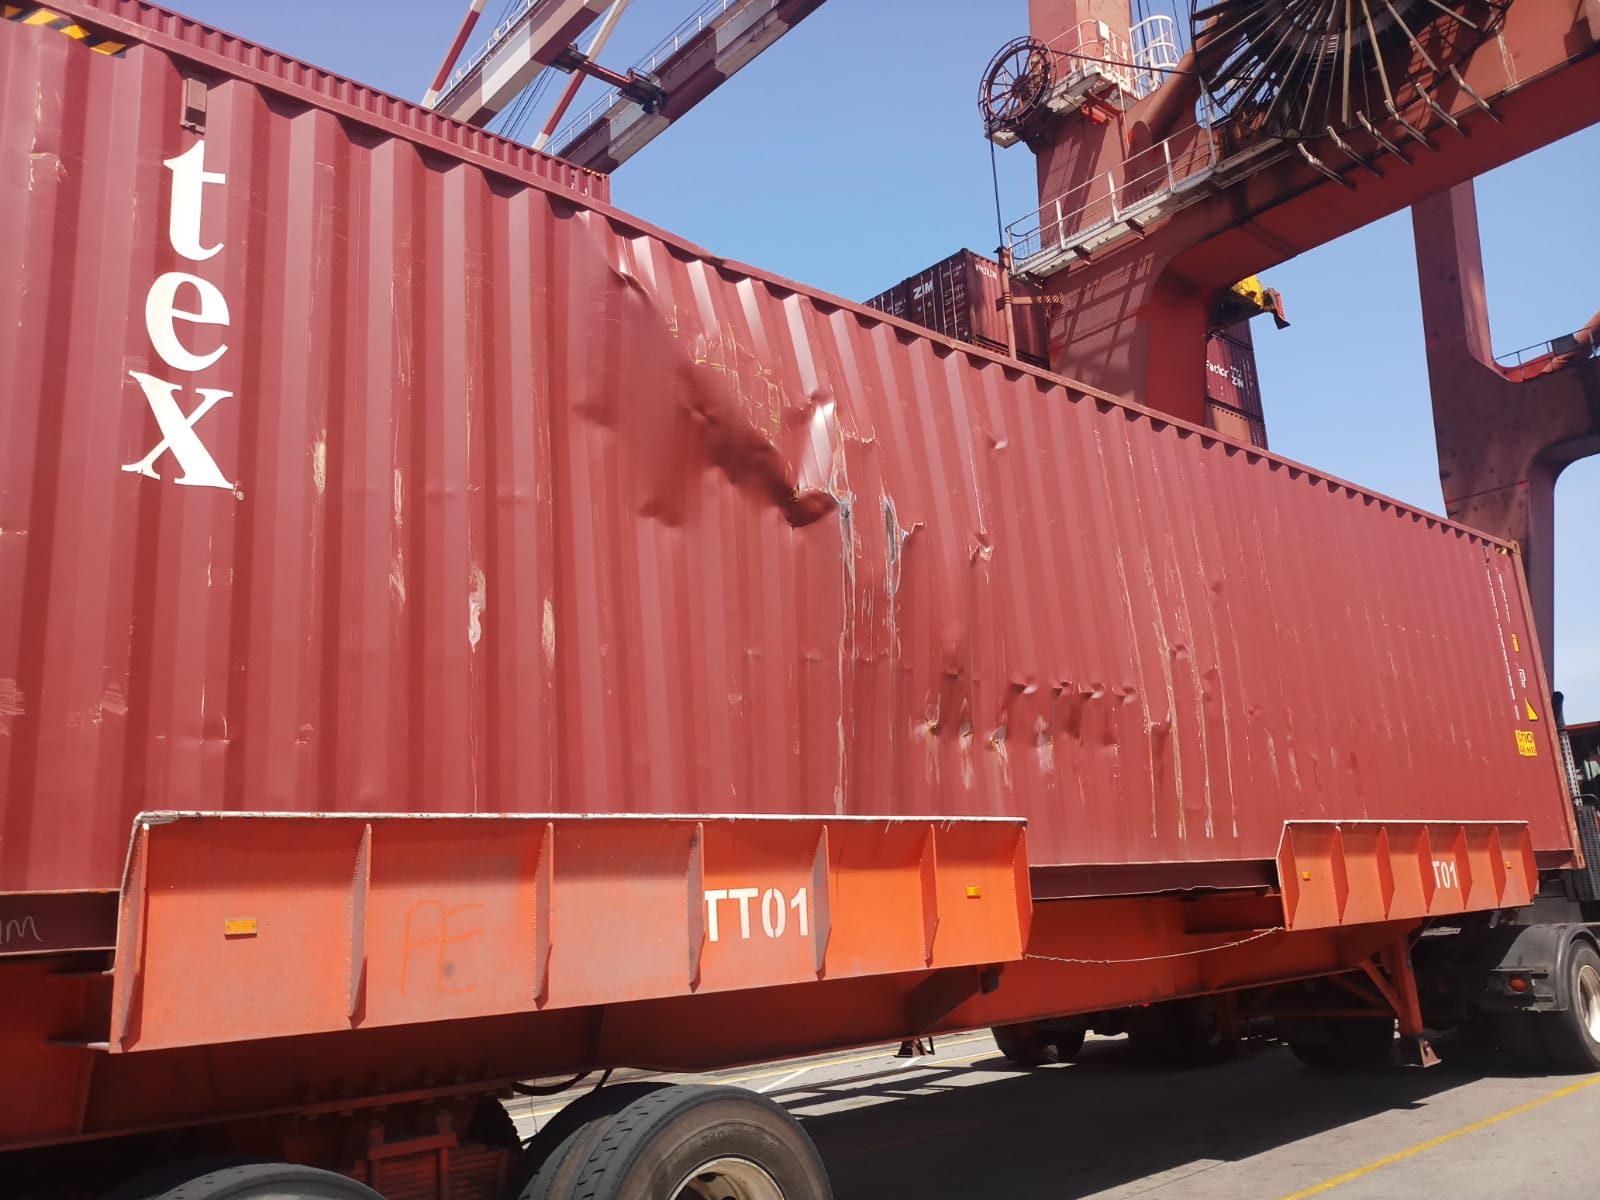bulged: (527, 219, 883, 581)
dented: (857, 642, 1233, 776)
